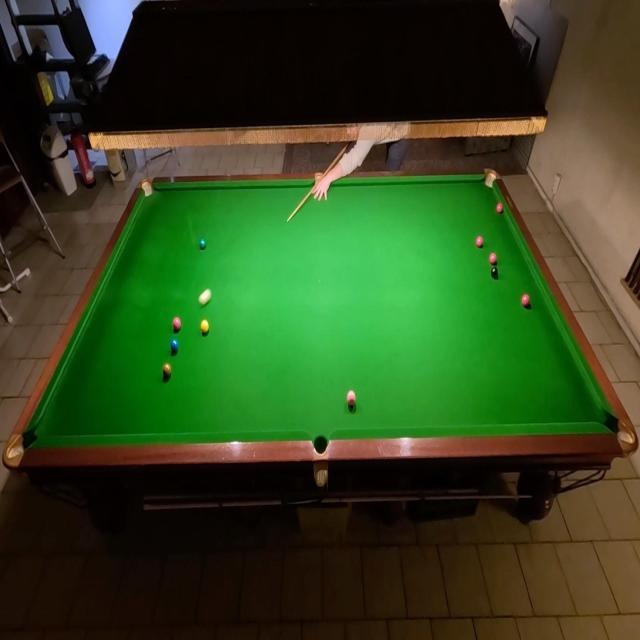Ball: (196, 284, 214, 312), (161, 361, 173, 381), (169, 336, 180, 356), (346, 388, 356, 409), (200, 316, 210, 336), (520, 292, 531, 310), (172, 316, 182, 332), (198, 237, 208, 252), (490, 266, 500, 280), (496, 201, 504, 216), (489, 252, 497, 266), (476, 235, 484, 249)
Pocket: (6, 427, 39, 467), (603, 414, 636, 452), (312, 434, 328, 457), (482, 171, 498, 190), (141, 180, 155, 199)
